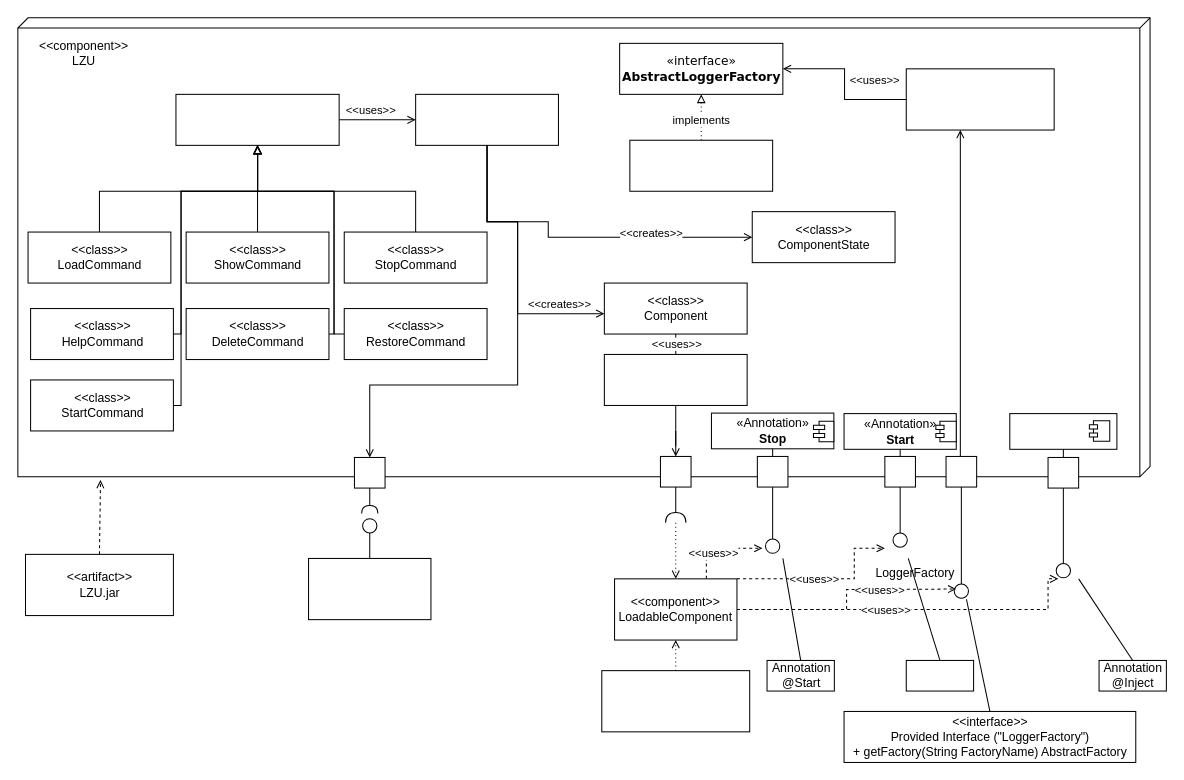
This 1184x780 diagram has some shape labels left out. The shapes that lost their labels are listed below. From the top down, each one's box as (x1, y1, x2, y2) in pixels, then its label:
(175, 93, 339, 145): «abstract class» Command
(415, 93, 558, 145): <<class>> ThreadManager
(905, 68, 1054, 130): <<class>> FactoryProvider
(629, 139, 773, 191): <<class>> StandardLoggerFactory
(603, 353, 747, 405): <<class>> CustomClassLoader
(1009, 413, 1117, 449): «Annotation» Inject
(308, 557, 431, 620): <<component>> Database
(905, 659, 974, 691): Annotation @Stop
(601, 670, 750, 732): <<artifact>> LoadableComponent.jar
